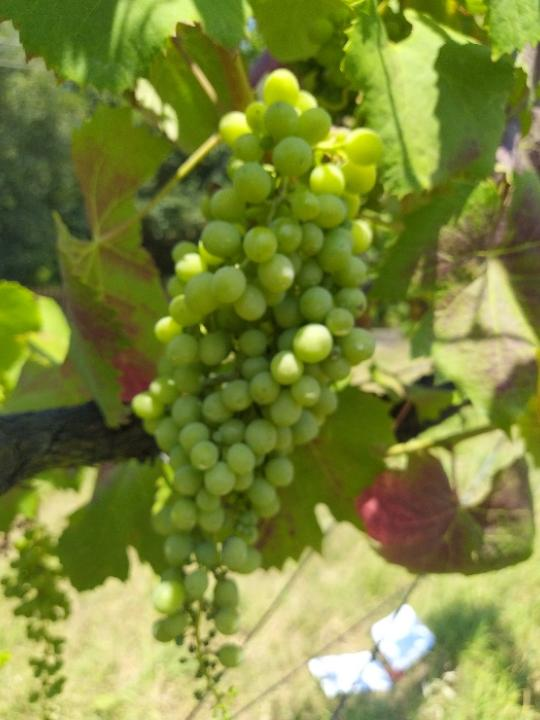grape: (131, 63, 390, 720)
